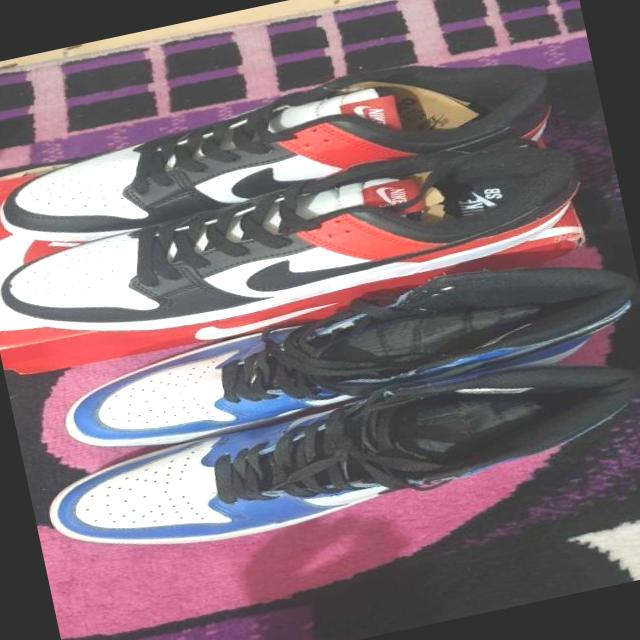nike_fake_jordan: (0, 116, 616, 365), (29, 332, 640, 576), (39, 234, 640, 472), (0, 60, 511, 262)
